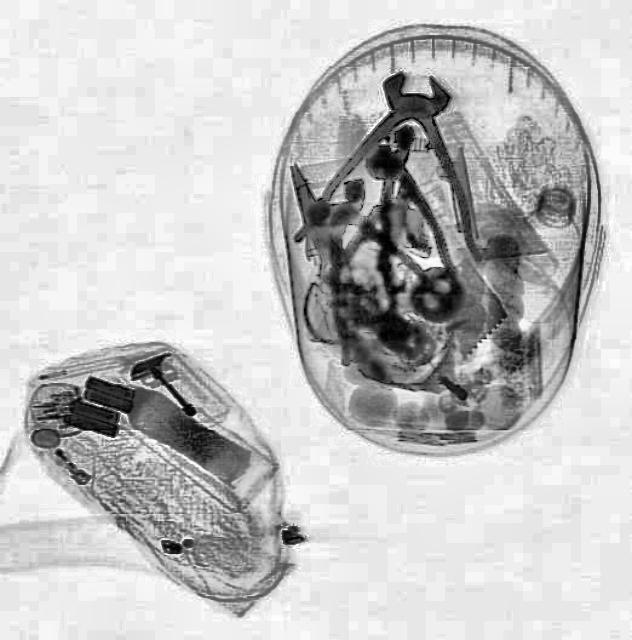Pliers: (290, 56, 514, 268)
